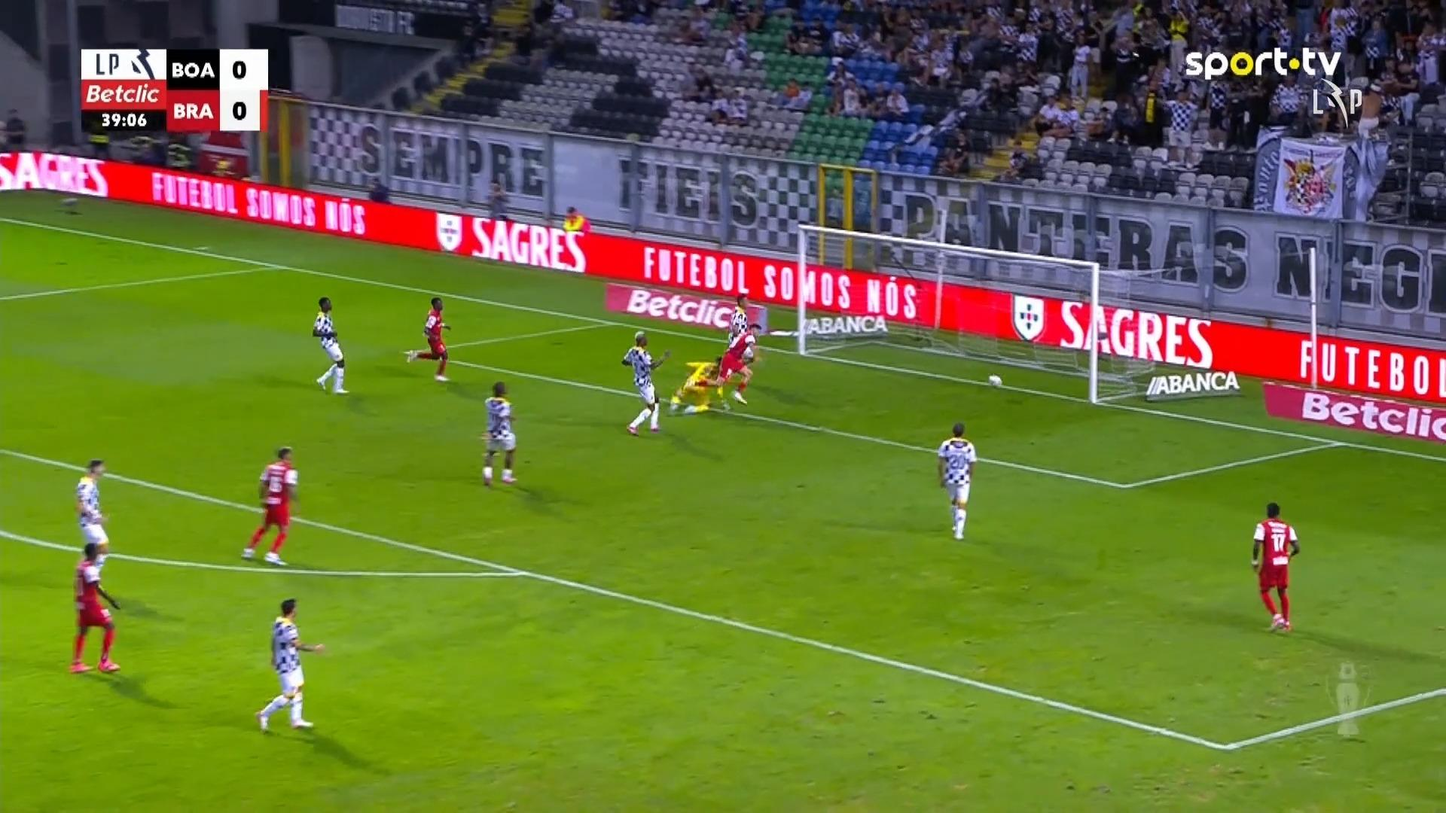ball: (988, 374, 1002, 388)
goalkeeper: (668, 355, 725, 413)
player: (254, 597, 325, 732), (240, 446, 298, 566), (69, 541, 121, 673), (1250, 501, 1299, 632), (621, 330, 670, 436), (936, 422, 977, 540), (480, 380, 518, 488), (403, 297, 451, 382), (715, 323, 760, 409), (75, 458, 111, 559), (312, 297, 349, 394), (725, 294, 749, 361)
